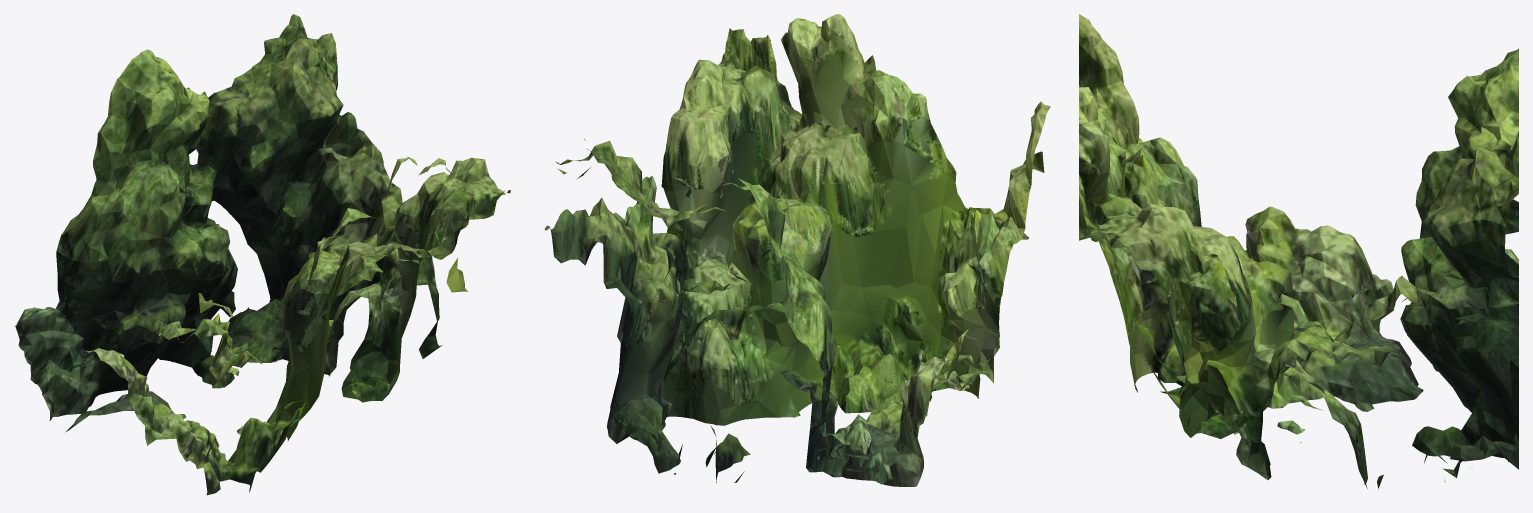
3 renders of one model, left to right at view 1: azimuth 30°, elevation 25°; view 2: azimuth 150°, elevation 25°; view 3: azimuth 270°, elevation 25°, orthographic. The views are drawn at different scales.
Size of the model in its own units: 26.11 by 25.09 by 26.11.
Materials: 7 (7 with a texture image).
